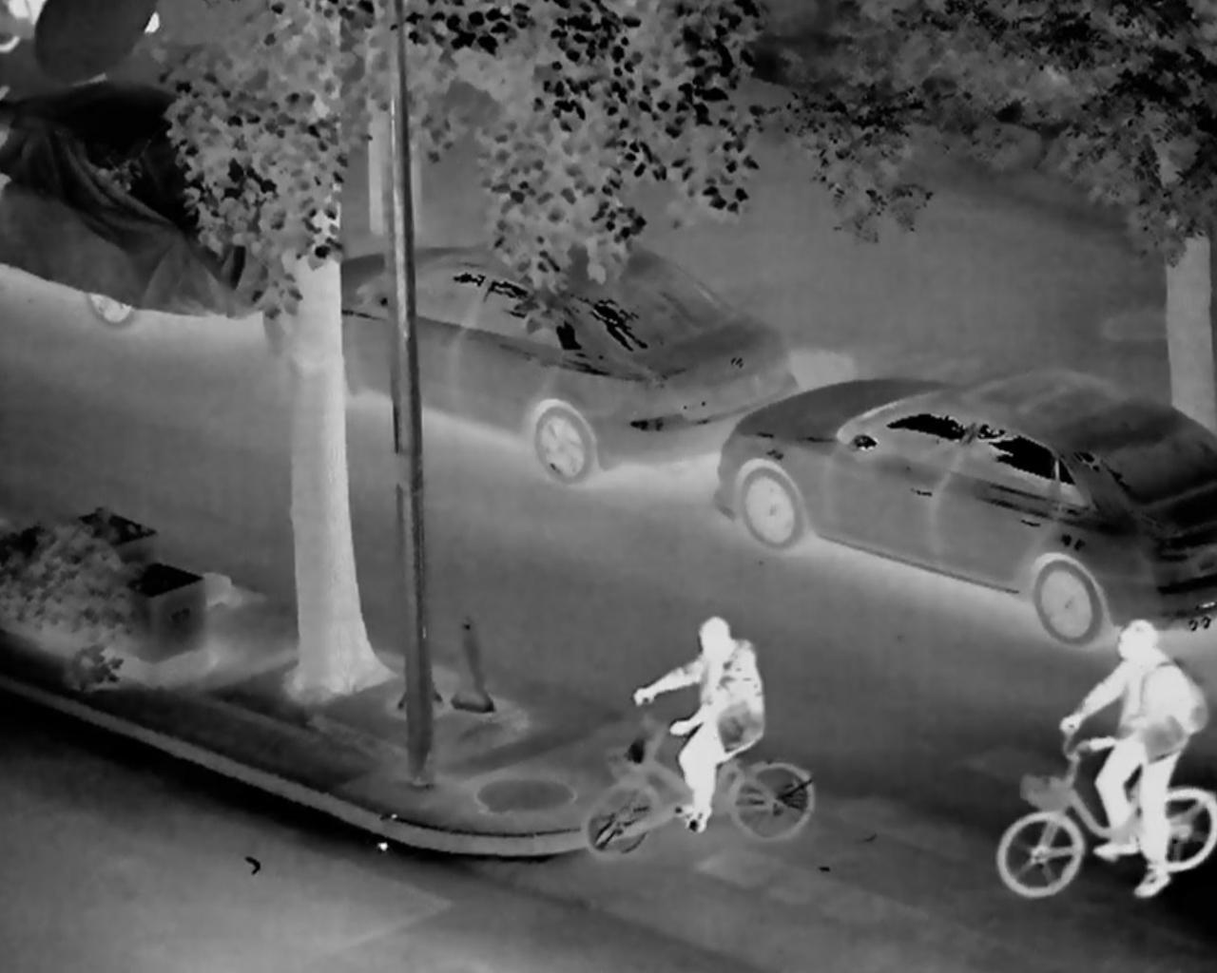person: (1063, 623, 1207, 893), (635, 604, 776, 837)
